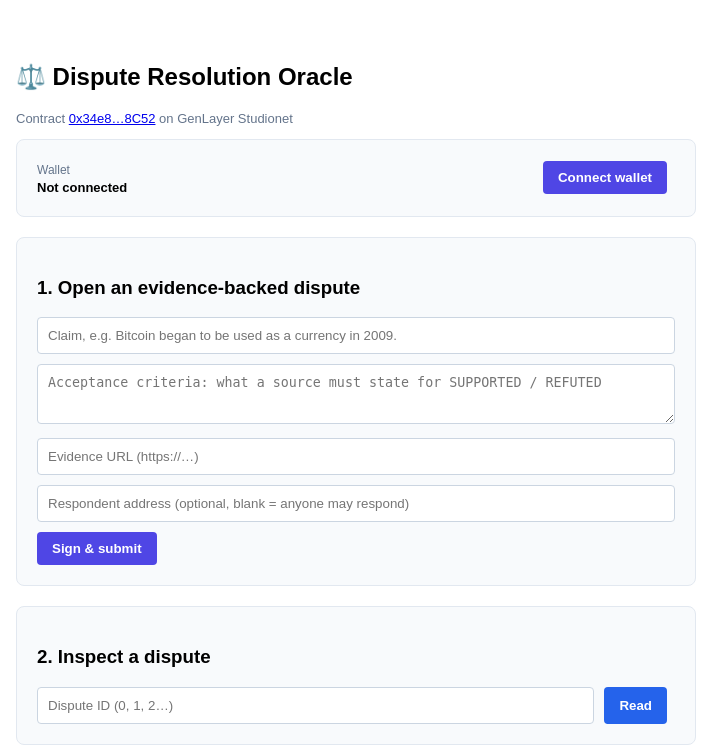
Test: App › shows the failure when the finalized execution failed
The image size is (713, 755).
Click the button "Connect wallet": coordinates (605, 178) [543, 161, 667, 194]
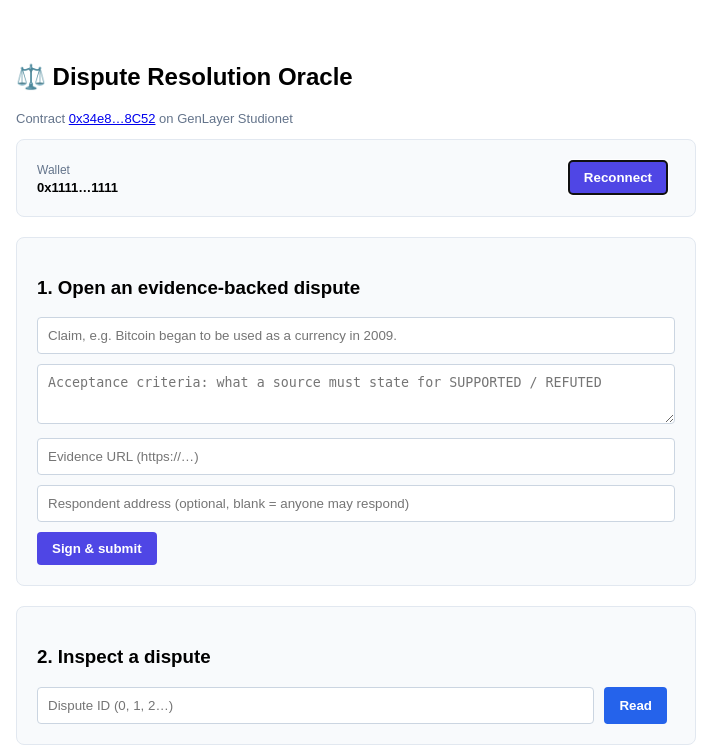
In the field labelled "Dispute ID": coordinates (316, 705) [37, 687, 594, 724], type "0"
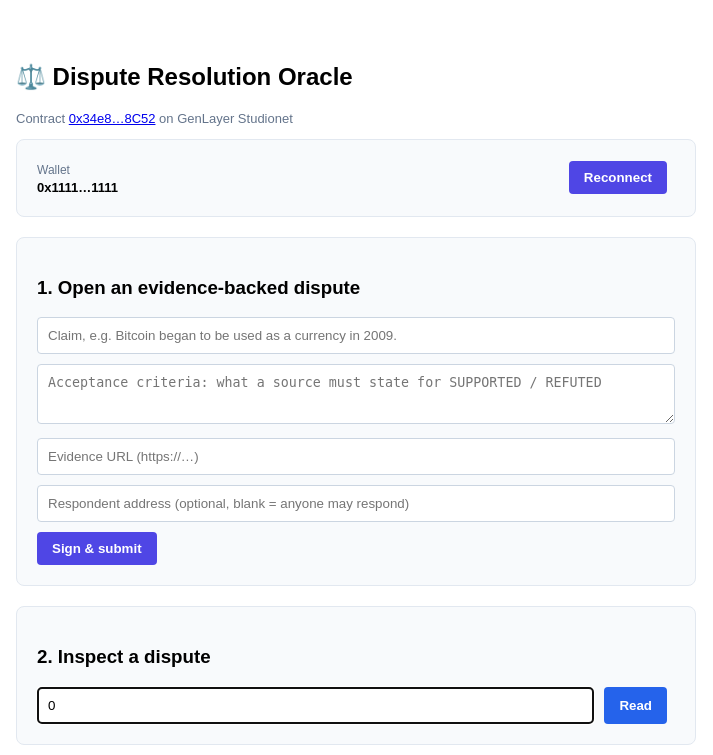
Click the button "Read": coordinates (636, 705) [604, 687, 667, 724]
(page scrolled)
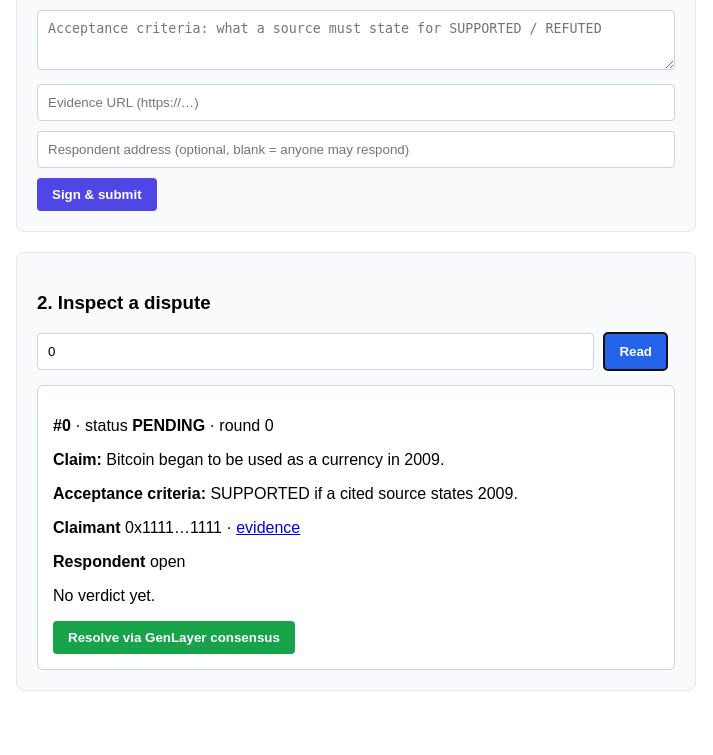
Click the button "Resolve via GenLayer consensus": coordinates (174, 637) [53, 621, 295, 654]
(page scrolled)
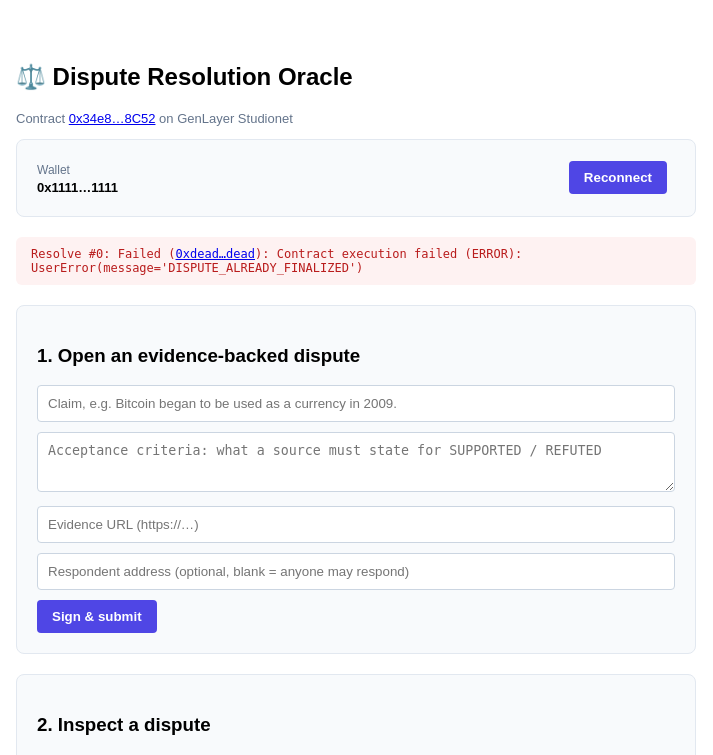
Expected: the message shows "DISPUTE_ALREADY_FINALIZED", [31, 247, 522, 275]
